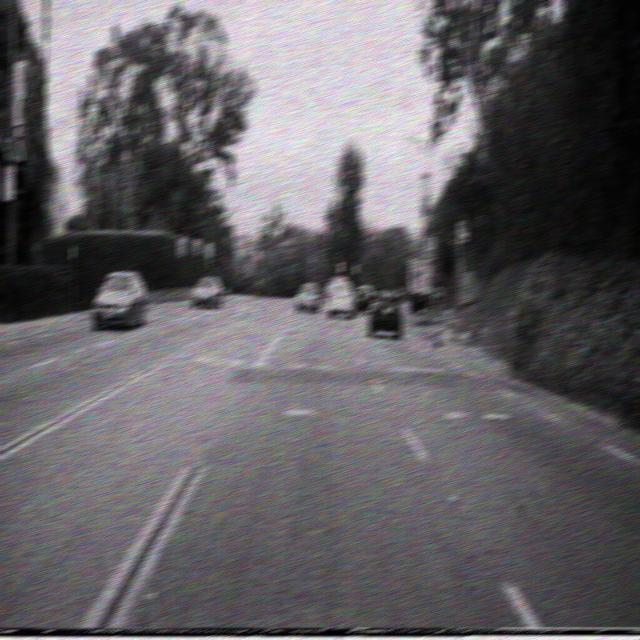speedLimit35: (422, 234, 437, 261)
